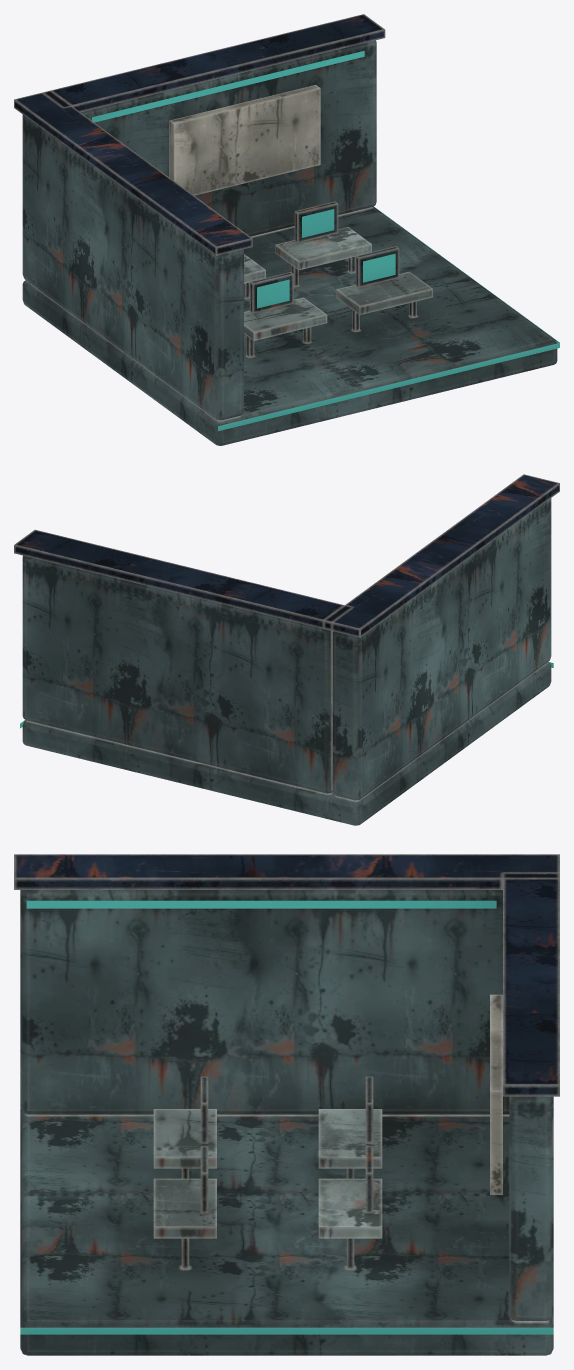
The model's file is interstellar_navigation.glb.
3 views of the same model, one above another, from view 1: azimuth 30°, elevation 25°; view 2: azimuth 150°, elevation 25°; view 3: azimuth 270°, elevation 25° (orthographic). The views are drawn at different scales.
Visible parts, largest first — view 1: te_interstellar_navigation; view 2: te_interstellar_navigation; view 3: te_interstellar_navigation.
Part boxes in pixels (x1=…): te_interstellar_navigation: x1=14, y1=14, x2=559, y2=445; te_interstellar_navigation: x1=14, y1=474, x2=559, y2=825; te_interstellar_navigation: x1=14, y1=854, x2=559, y2=1355.
Bounding box in the file's own units: 0.86 × 0.48 × 0.86.
Materials: 1 (1 with a texture image).
